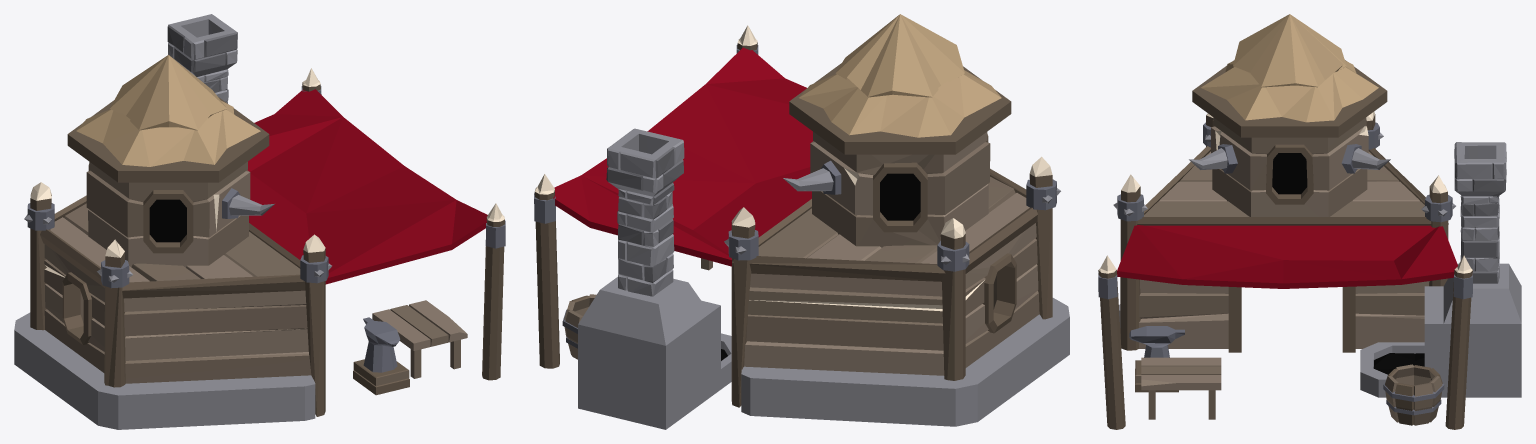
Rendered from smithy.fbx.
3 views of the same model, side by side, from view 1: azimuth 30°, elevation 25°; view 2: azimuth 150°, elevation 25°; view 3: azimuth 270°, elevation 25° (orthographic). The views are drawn at different scales.
Visible parts, largest first — view 1: smithy; view 2: smithy; view 3: smithy.
Boxes of the visible parts, bbox=[...] form: smithy: bbox=[14, 14, 505, 429]; smithy: bbox=[534, 14, 1069, 429]; smithy: bbox=[1098, 14, 1521, 429].
Bounding box in the file's own units: 1113 × 937 × 1190.
